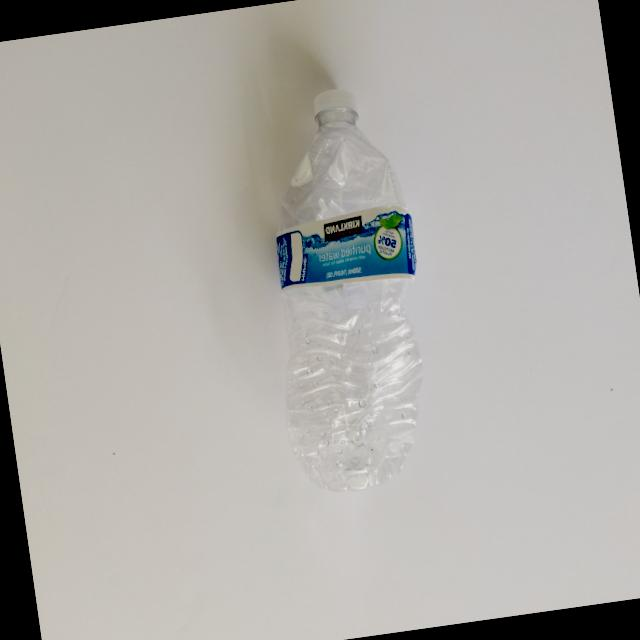Plastic: (168, 67, 474, 556)
